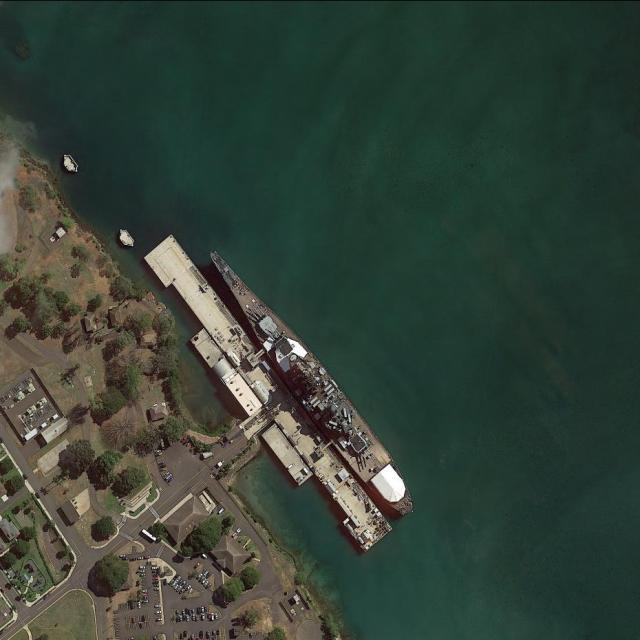Dock: (144, 233, 393, 551)
Other Warship: (195, 241, 423, 523)
